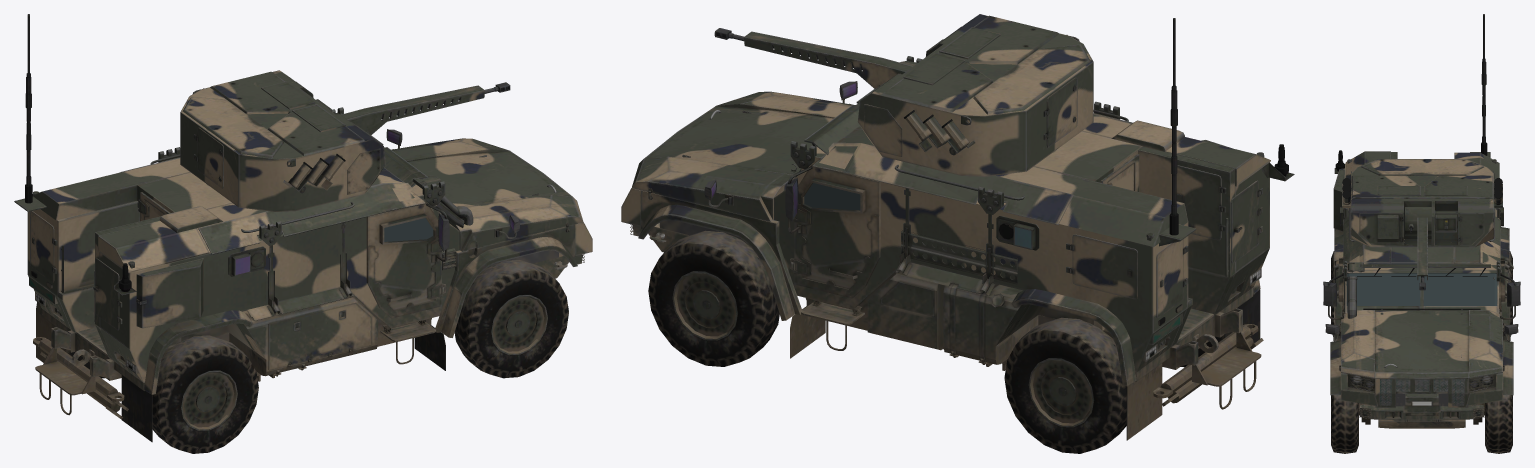
Rendered from typhoon-vdv_30mm__russian_vdv_warno_mod.glb.
3 views of the same model, side by side, from view 1: azimuth 30°, elevation 25°; view 2: azimuth 150°, elevation 25°; view 3: azimuth 270°, elevation 25° (orthographic). The views are drawn at different scales.
Visible parts, largest first — view 1: Chassis_33, Tourelle_01_29, Roue_Droite_01_15, Roue_01_14, Axe_Canon_01_23; view 2: Chassis_33, Tourelle_01_29, Roue_Gauche_01_16, Roue_01_14, Axe_Canon_01_23; view 3: Chassis_33, Tourelle_01_29, Axe_Canon_01_23, Roue_Droite_01_15, Roue_Gauche_01_16, Roue_01_14.
Part boxes in pixels (bbox=[...]): Chassis_33: bbox=[14, 14, 592, 442]; Tourelle_01_29: bbox=[180, 70, 385, 211]; Roue_Droite_01_15: bbox=[454, 259, 568, 378]; Roue_01_14: bbox=[67, 335, 258, 453]; Axe_Canon_01_23: bbox=[316, 85, 485, 135]; Chassis_33: bbox=[621, 18, 1294, 440]; Tourelle_01_29: bbox=[857, 14, 1093, 176]; Roue_Gauche_01_16: bbox=[648, 230, 779, 366]; Roue_01_14: bbox=[1004, 317, 1224, 453]; Axe_Canon_01_23: bbox=[743, 31, 912, 88]; Chassis_33: bbox=[1323, 14, 1520, 428]; Tourelle_01_29: bbox=[1342, 159, 1502, 247]; Axe_Canon_01_23: bbox=[1405, 207, 1457, 280]; Roue_Droite_01_15: bbox=[1331, 395, 1358, 453]; Roue_Gauche_01_16: bbox=[1485, 395, 1512, 453]; Roue_01_14: bbox=[1331, 251, 1512, 335].
Size of the model in its own units: 6.1 by 4.49 by 2.75.
Materials: 2 (2 with a texture image).
